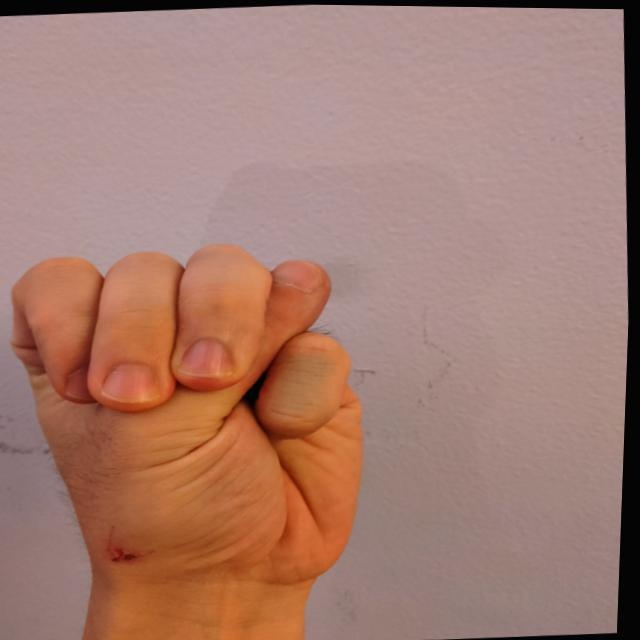M: (0, 228, 398, 605)
